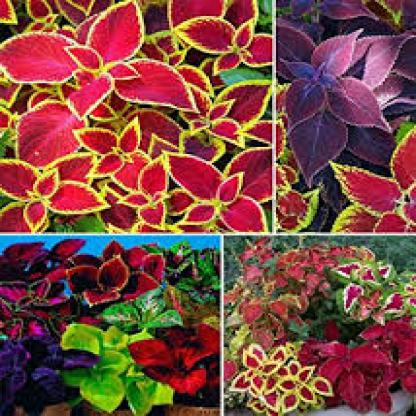Bunga Coleus: (28, 19, 392, 390)
